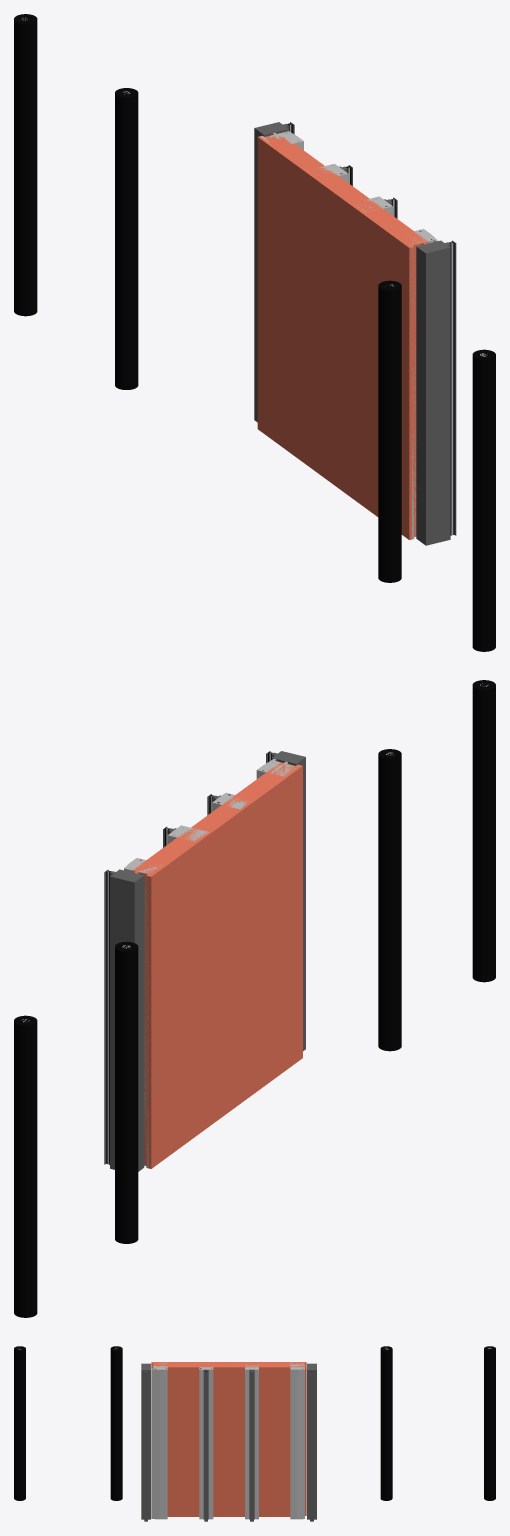
Rendered from BRBTB-2.glb.
The picture shows the model from 3 angles, top to bottom: view 1: azimuth 30°, elevation 25°; view 2: azimuth 150°, elevation 25°; view 3: azimuth 270°, elevation 25°; orthographic projection. The views are drawn at different scales.
Visible parts, largest first — view 1: Curve, Curve.008, Curve.027, Curve.041, Curve.029, Curve.039, Curve.007, Curve.001, Curve.024, Curve.023, Curve.025, Curve.006; view 2: Curve, Curve.027, Curve.041, Curve.029, Curve.039, Curve.001, Curve.002, Curve.003, Curve.008, Curve.010, Curve.009; view 3: Curve, Curve.006, Curve.003, Curve.029, Curve.039, Curve.027, Curve.041, Curve.005, Curve.004, Curve.008, Curve.009, Curve.013 (+7 smaller).
Boxes of the visible parts, x1,y1,x2,y2 form: Curve: (257, 134, 428, 539); Curve.008: (421, 244, 450, 545); Curve.027: (472, 349, 495, 651); Curve.041: (14, 14, 37, 316); Curve.029: (378, 280, 401, 582); Curve.039: (115, 88, 138, 389); Curve.007: (416, 240, 445, 541); Curve.001: (254, 122, 283, 422); Curve.024: (449, 241, 454, 535); Curve.023: (451, 240, 456, 535); Curve.025: (450, 242, 453, 535); Curve.006: (410, 229, 437, 539); Curve: (132, 762, 302, 1168); Curve.027: (472, 680, 495, 982); Curve.041: (14, 1015, 37, 1317); Curve.029: (378, 749, 401, 1051); Curve.039: (115, 942, 138, 1243); Curve.001: (110, 873, 139, 1171); Curve.002: (115, 869, 144, 1170); Curve.003: (124, 858, 160, 1168); Curve.008: (277, 751, 305, 1050); Curve.010: (106, 870, 111, 1164); Curve.009: (104, 869, 108, 1164); Curve: (151, 1362, 306, 1516); Curve.006: (151, 1362, 167, 1519); Curve.003: (290, 1362, 306, 1519); Curve.029: (110, 1346, 122, 1500); Curve.039: (380, 1346, 392, 1500); Curve.027: (14, 1346, 25, 1500); Curve.041: (484, 1346, 495, 1500); Curve.005: (199, 1366, 213, 1519); Curve.004: (245, 1365, 258, 1519); Curve.008: (141, 1363, 145, 1519); Curve.009: (310, 1372, 313, 1521); Curve.013: (250, 1372, 253, 1521).
Bounding box in the file's own units: 23.02 × 62.19 × 181.
